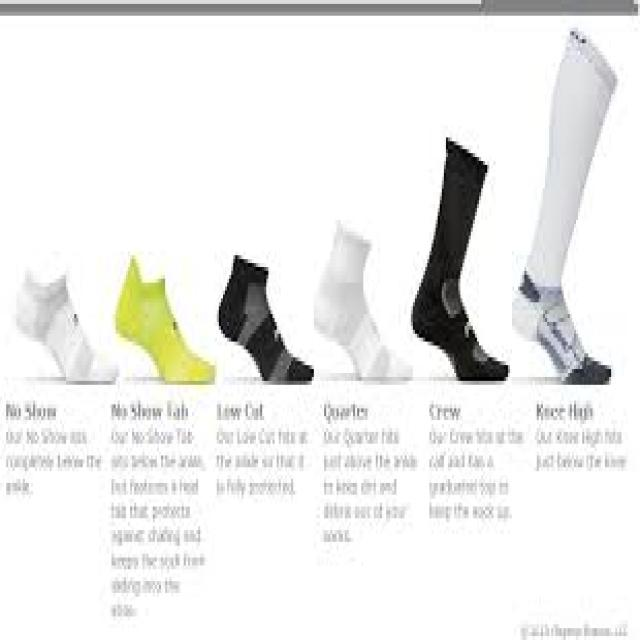sock: (411, 133, 508, 381), (113, 251, 214, 381), (217, 251, 314, 381)
